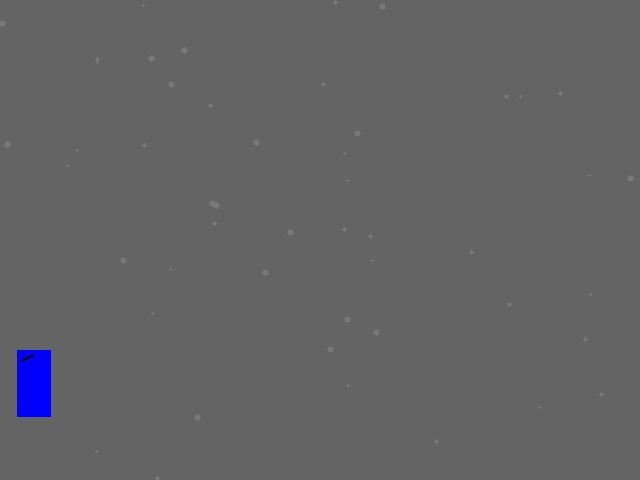motorcycle: (17, 350, 50, 416)
